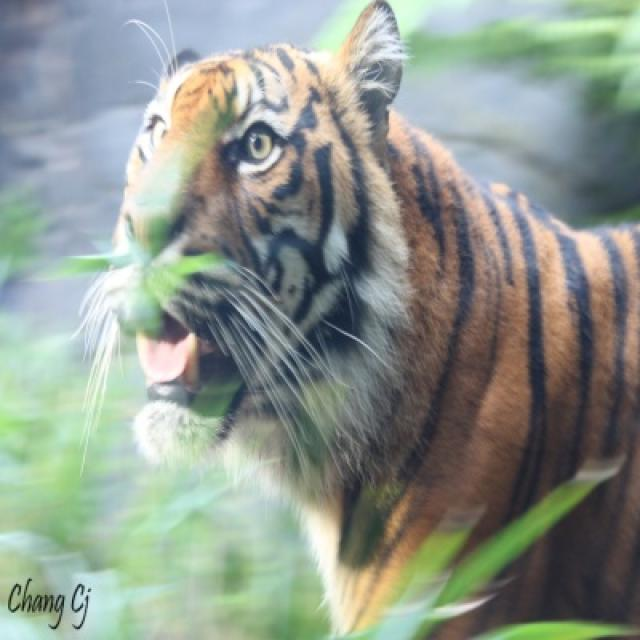Tiger: (110, 0, 638, 634)
